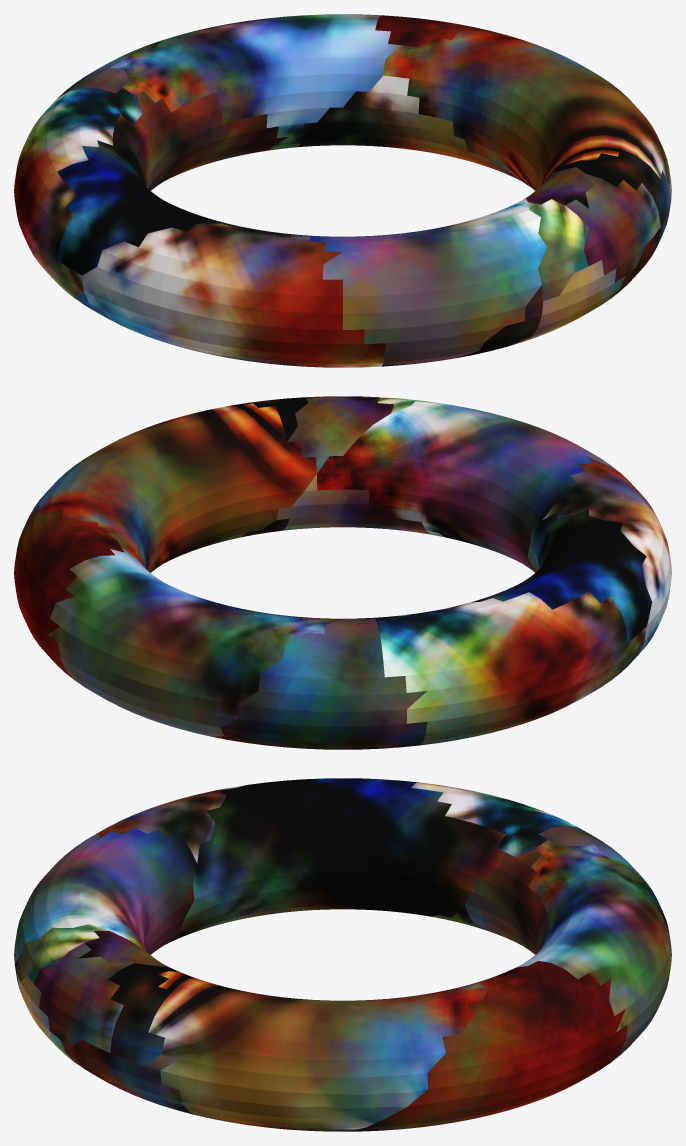
The model's file is torus_voronoi.obj.
The picture shows the model from 3 angles, top to bottom: view 1: azimuth 30°, elevation 25°; view 2: azimuth 150°, elevation 25°; view 3: azimuth 270°, elevation 25°; orthographic projection.
Bounding box in the file's own units: 2.5 × 0.5 × 2.5.
1 material, 1 textured.
